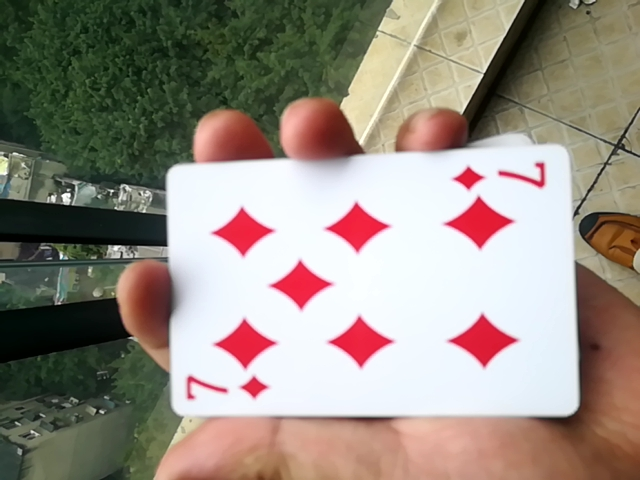fk 7: (147, 146, 581, 433)
